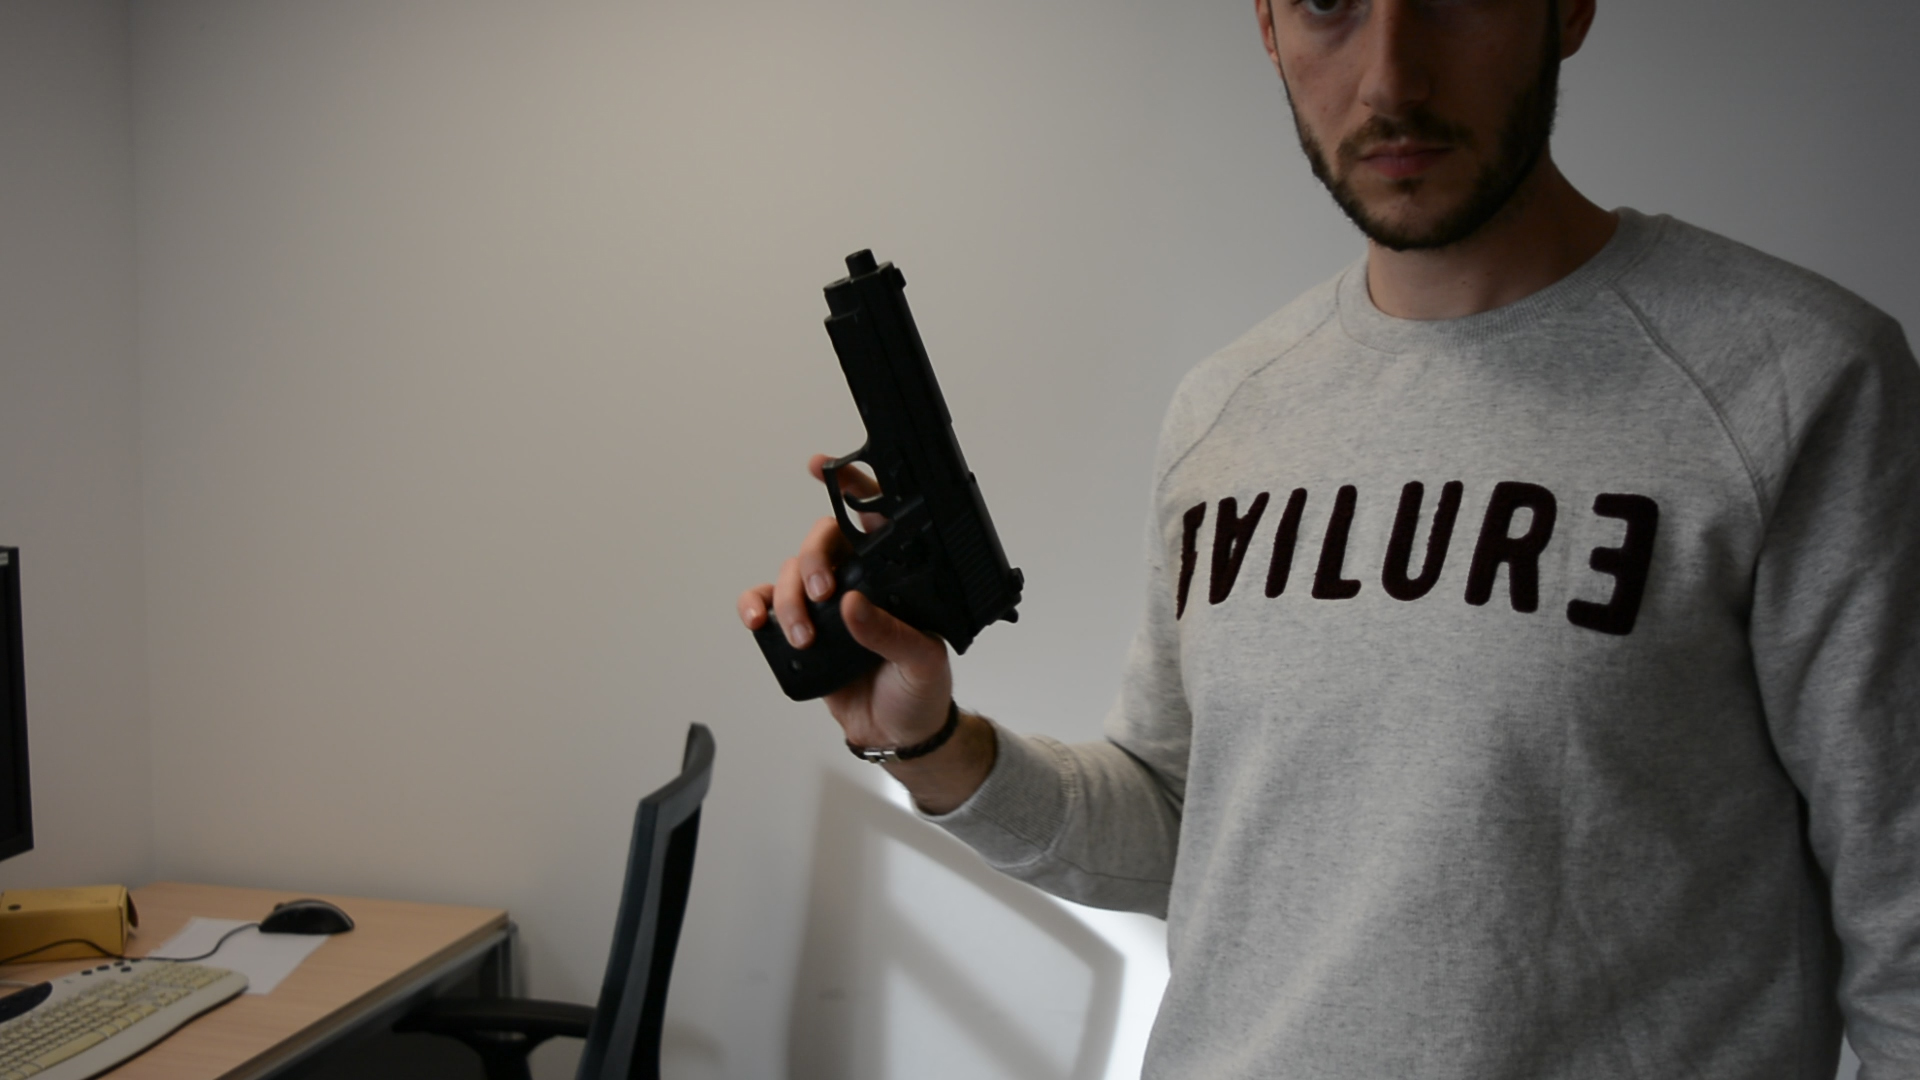pistol: (746, 245, 1027, 707)
